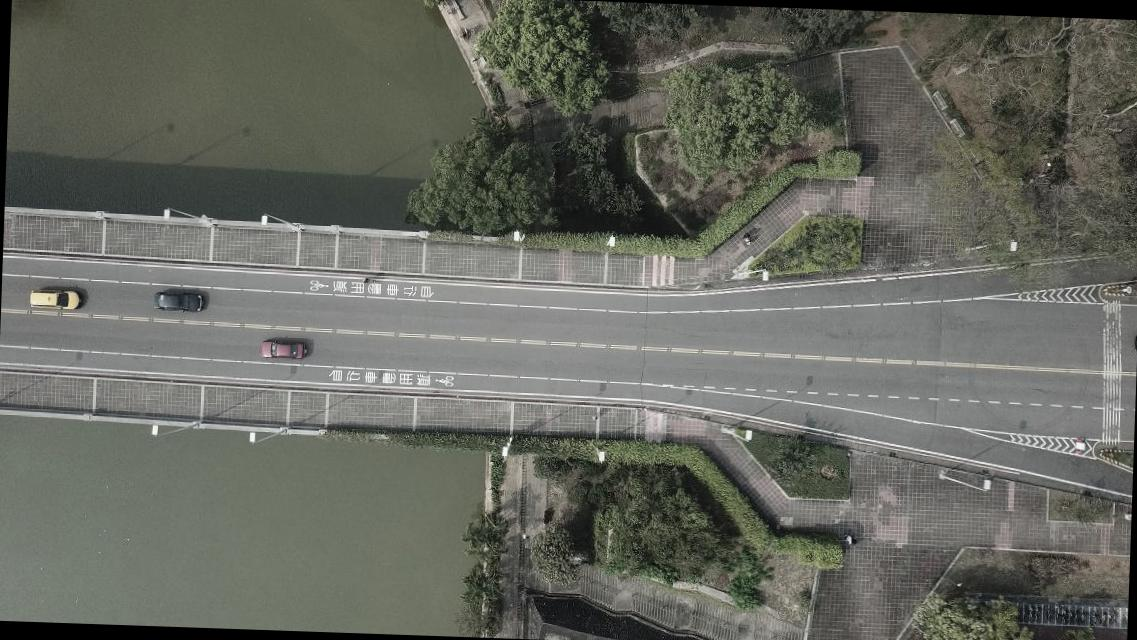vehicle: (29, 287, 82, 310), (153, 290, 205, 312), (260, 339, 308, 360)
